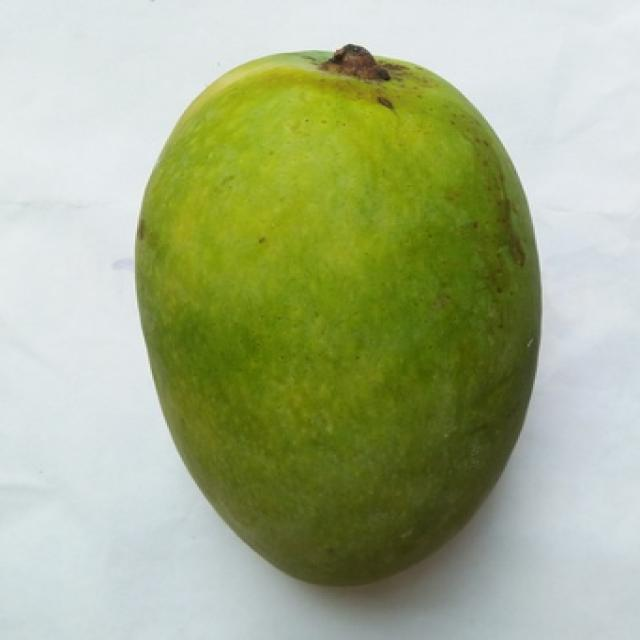Mango: (135, 53, 539, 584)
